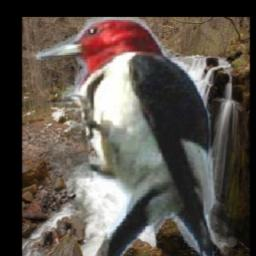Woodpecker: (32, 18, 218, 256)
